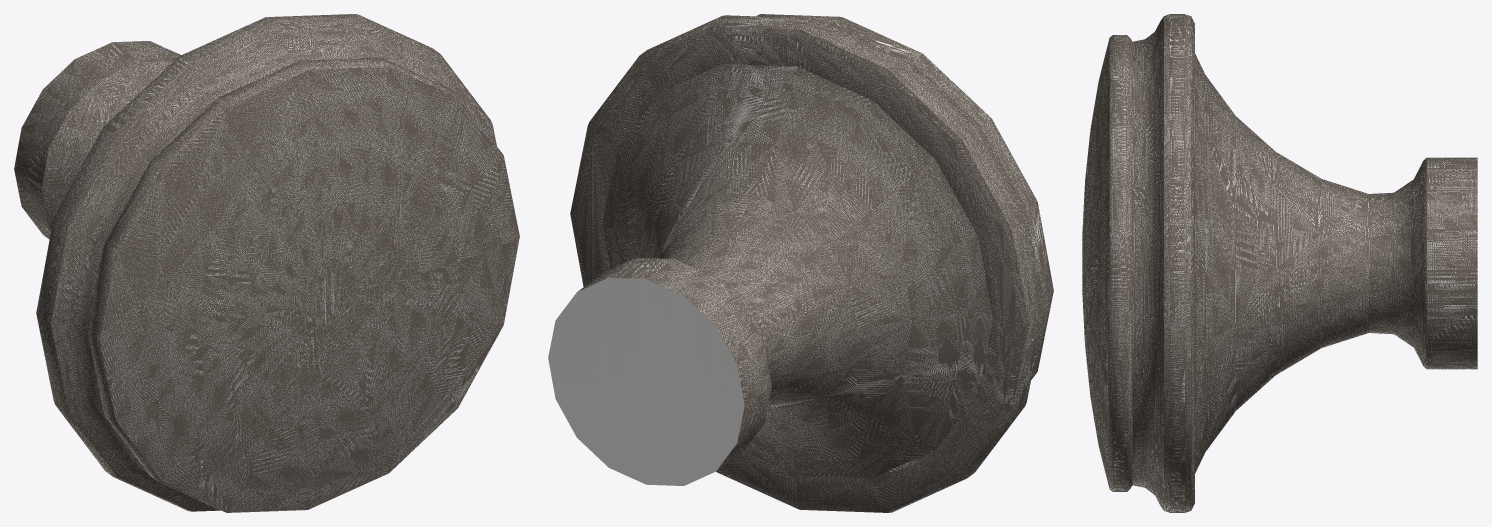
The model's file is original-35.obj.
The picture shows the model from 3 angles, left to right: view 1: azimuth 30°, elevation 25°; view 2: azimuth 150°, elevation 25°; view 3: azimuth 270°, elevation 25°; orthographic projection. The views are drawn at different scales.
Visible parts, largest first — view 1: _7155-PC_LT1/_7155-PC_LT/mesh27/mesh27-geometry#mesh27-geometry; view 2: _7155-PC_LT1/_7155-PC_LT/mesh27/mesh27-geometry#mesh27-geometry; view 3: _7155-PC_LT1/_7155-PC_LT/mesh27/mesh27-geometry#mesh27-geometry.
Part boxes in pixels (x1,y1,x2,y2): _7155-PC_LT1/_7155-PC_LT/mesh27/mesh27-geometry#mesh27-geometry: (14,14,519,512); _7155-PC_LT1/_7155-PC_LT/mesh27/mesh27-geometry#mesh27-geometry: (548,14,1053,512); _7155-PC_LT1/_7155-PC_LT/mesh27/mesh27-geometry#mesh27-geometry: (1082,14,1477,512).
Bounding box in the file's own units: 0.0646 × 0.0646 × 0.0511.
